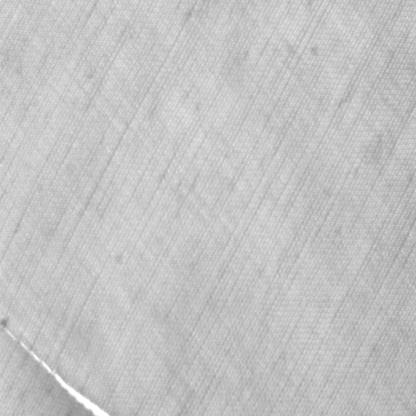hole: (0, 314, 113, 415)
